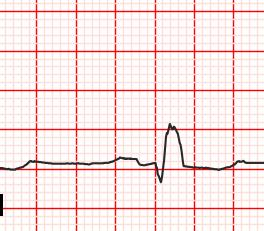Pathological Q Wave: (150, 160, 168, 186)
